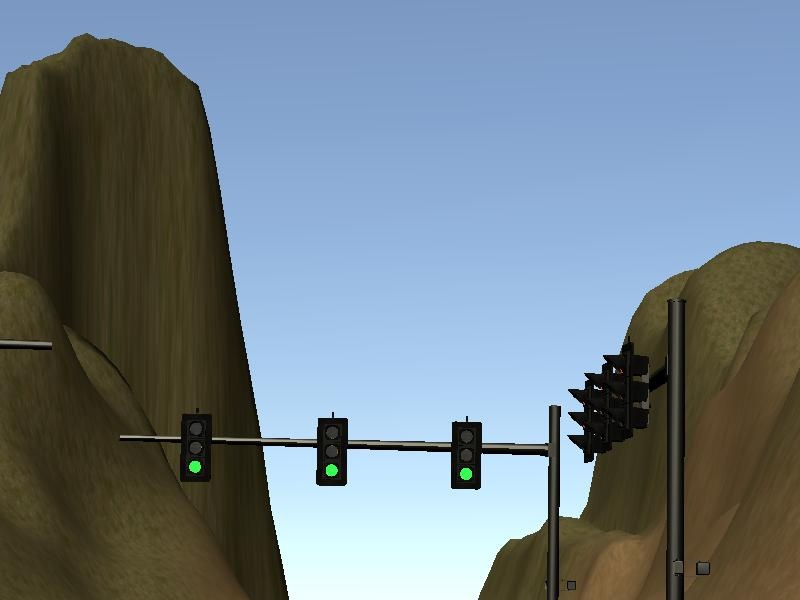GREEN: (451, 422, 483, 491), (316, 419, 348, 488), (179, 412, 211, 481)
